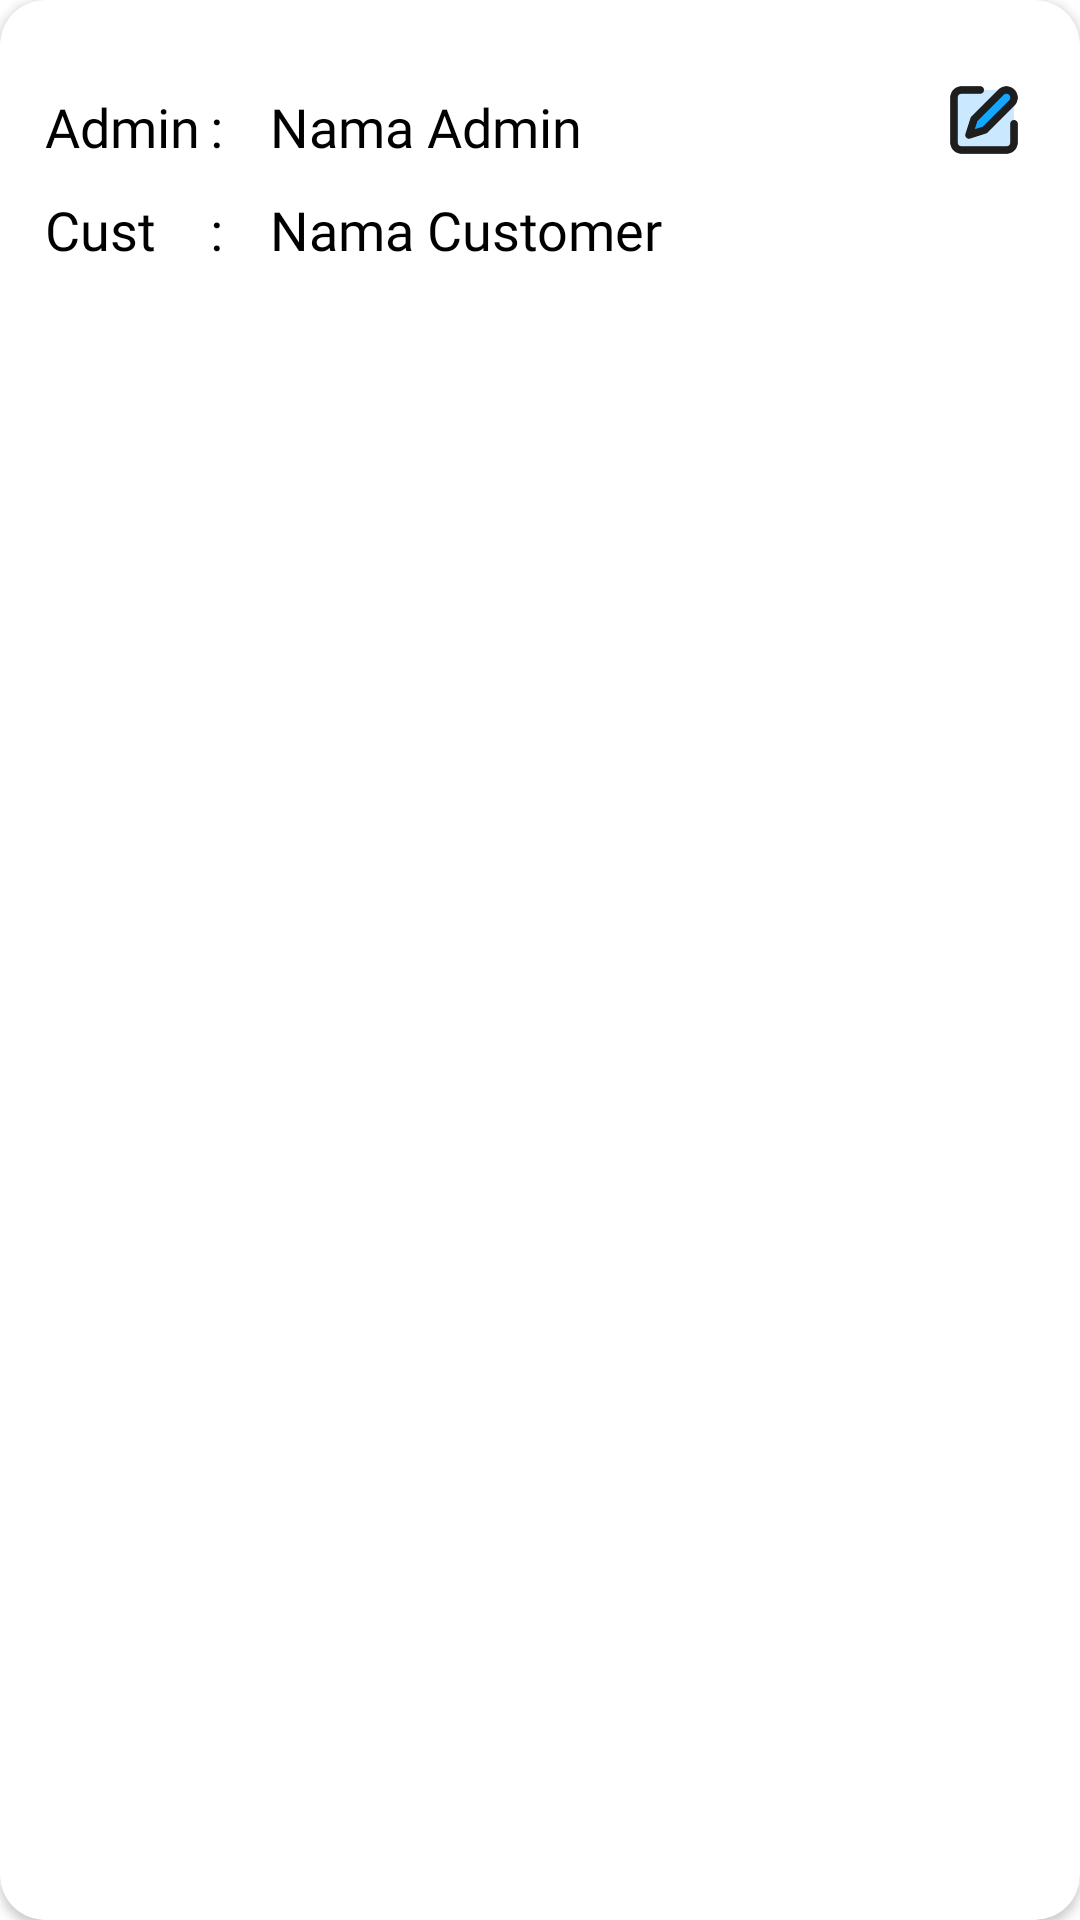

Icon bounding boxes for this 1080×1920 phone screenshot, format (x1, y1, x2, y2):
edit free: (950, 86, 1018, 154)
